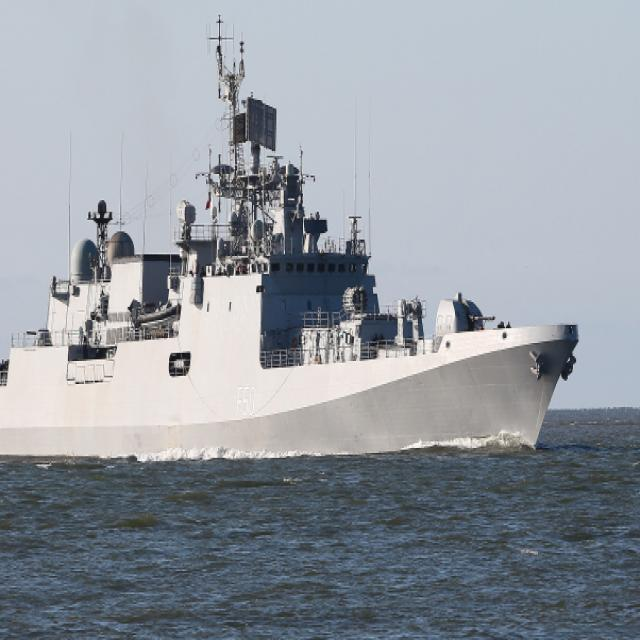Fragata: (1, 4, 583, 464)
